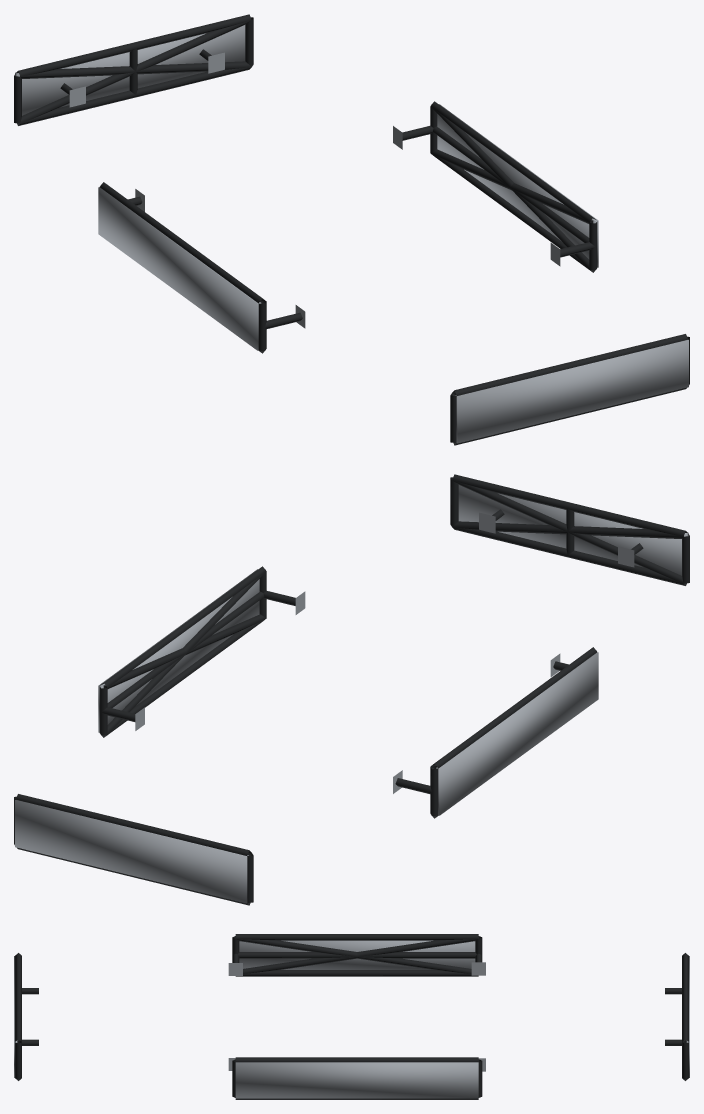
File: halberton_planalto_protecao.glb
3 views of the same model, one above another, from view 1: azimuth 30°, elevation 25°; view 2: azimuth 150°, elevation 25°; view 3: azimuth 270°, elevation 25° (orthographic). The views are drawn at different scales.
Visible parts, largest first — view 1: Protection_front_Level3_Details, Protection_left_Level3_Details, Protection_rear_Level3_Details, Protection_rear_Level1_Details, Protection_right_Level1_Details, Protection_rear_Level2_Details, Protection_right_Level2_Details, Protection_right_Level3_Details, Protection_front_Level1_Details, Protection_left_Level1_Details; view 2: Protection_rear_Level3_Details, Protection_left_Level3_Details, Protection_front_Level3_Details, Protection_front_Level1_Details, Protection_right_Level1_Details, Protection_front_Level2_Details, Protection_right_Level2_Details, Protection_right_Level3_Details, Protection_rear_Level1_Details, Protection_left_Level1_Details; view 3: Protection_right_Level3_Details, Protection_left_Level2_Details, Protection_left_Level1_Details, Protection_left_Level3_Details, Protection_right_Level1_Details, Protection_rear_Level1_Details, Protection_front_Level1_Details.
Part boxes in pixels (x1,y1,x2,y2): Protection_front_Level3_Details: (455, 340, 688, 443); Protection_left_Level3_Details: (98, 187, 261, 350); Protection_rear_Level3_Details: (15, 25, 245, 115); Protection_rear_Level1_Details: (14, 14, 253, 125); Protection_right_Level1_Details: (393, 101, 597, 272); Protection_rear_Level2_Details: (16, 20, 251, 125); Protection_right_Level2_Details: (430, 106, 595, 272); Protection_right_Level3_Details: (437, 104, 598, 267); Protection_front_Level1_Details: (450, 334, 689, 445); Protection_left_Level1_Details: (100, 182, 305, 353); Protection_rear_Level3_Details: (15, 800, 248, 903); Protection_left_Level3_Details: (436, 652, 598, 815); Protection_front_Level3_Details: (458, 485, 688, 575); Protection_front_Level1_Details: (450, 474, 689, 585); Protection_right_Level1_Details: (99, 566, 305, 737); Protection_front_Level2_Details: (452, 480, 687, 585); Protection_right_Level2_Details: (100, 572, 266, 737); Protection_right_Level3_Details: (98, 569, 259, 732); Protection_rear_Level1_Details: (14, 794, 253, 905); Protection_left_Level1_Details: (393, 647, 596, 818); Protection_right_Level3_Details: (235, 1062, 478, 1098); Protection_left_Level2_Details: (236, 936, 478, 973); Protection_left_Level1_Details: (228, 934, 485, 976); Protection_left_Level3_Details: (239, 940, 475, 969); Protection_right_Level1_Details: (228, 1057, 485, 1099); Protection_rear_Level1_Details: (665, 953, 688, 1080); Protection_front_Level1_Details: (15, 953, 38, 1080).
Size of the model in its own units: 2.28 by 0.354 by 5.12.
1 material, 1 textured.
